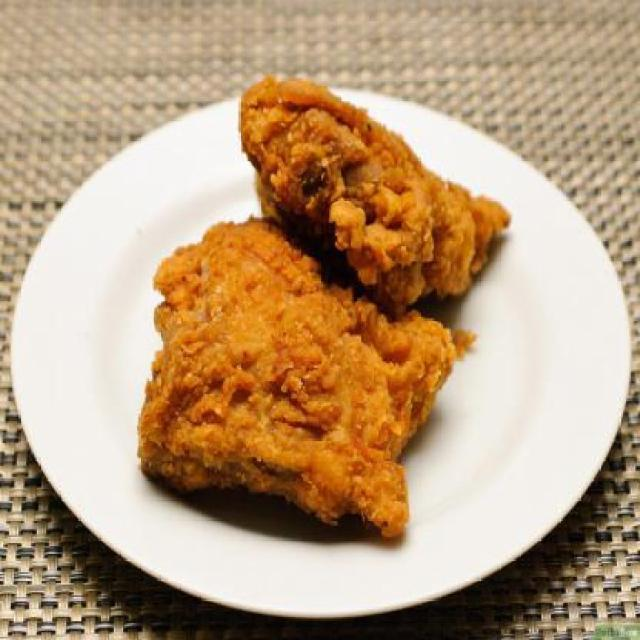Chicken -Fried Chicken-: (135, 76, 513, 546)
